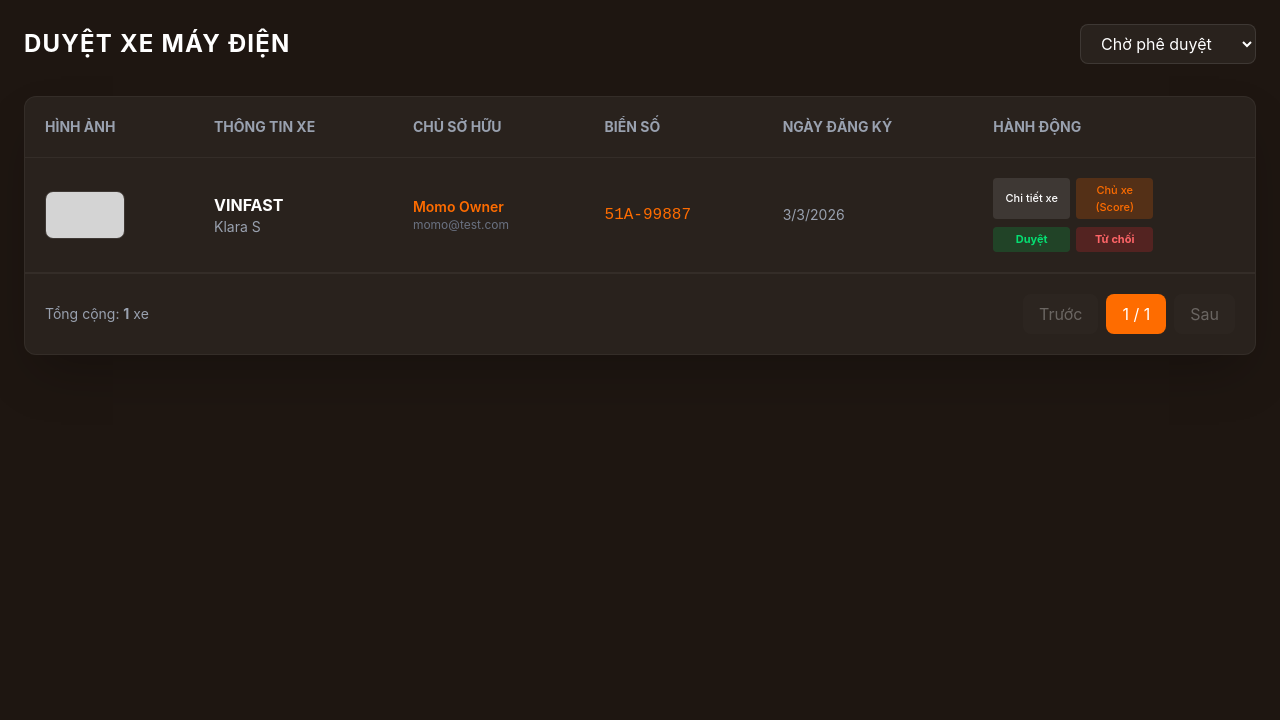
Test: ApproveVehicles Component (UC-10) › Phải hiển thị Hồ sơ uy tín (Trust Score) khi nhấn vào nút Chủ xe (Score)
The width and height of the screenshot is (1280, 720).
Click the button "Chủ xe (Score)". click: [1115, 198]
box: [1076,178,1153,219]
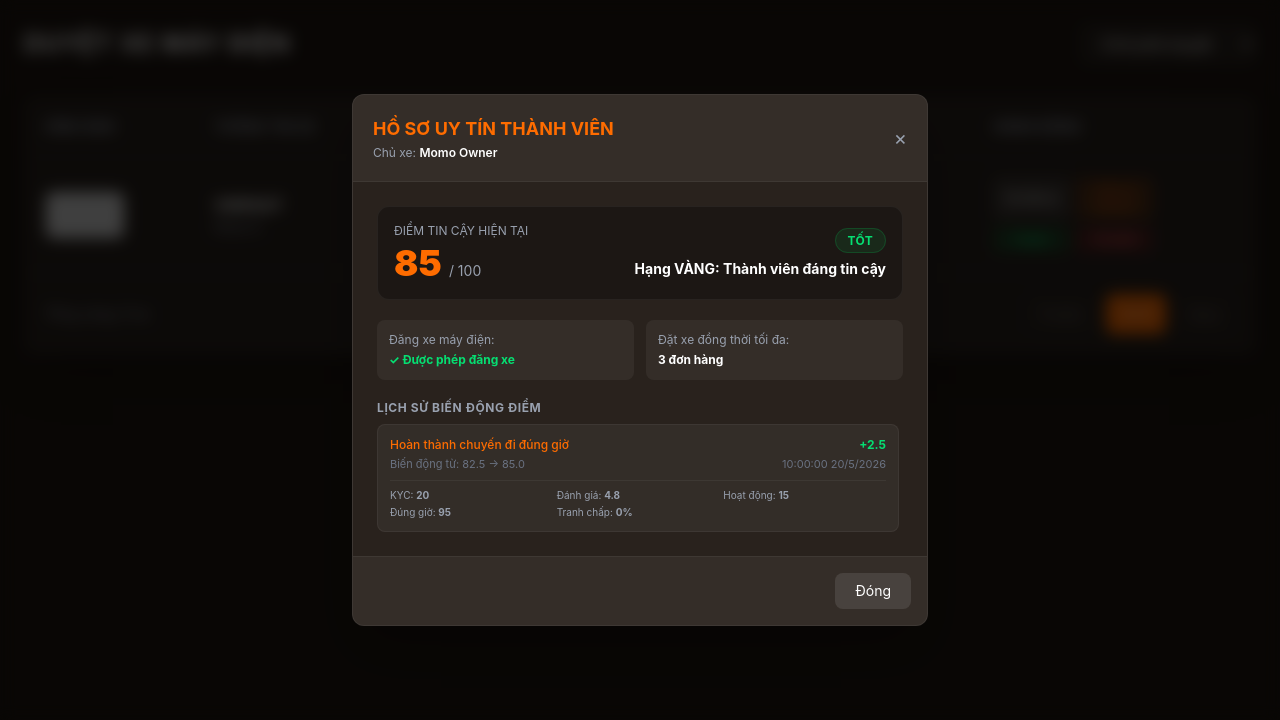
Expected: the heading "Hồ sơ uy tín thành viên" is shown, [373,115,614,143]
Expected: the text "Chủ xe: Momo Owner" is shown, [373,145,498,160]
Expected: the text "85" is shown, [394,241,442,285]
Đóng Modal hồ sơ uy tín
Click the button "Đóng". click: [873, 591]
box: [836,573,911,609]
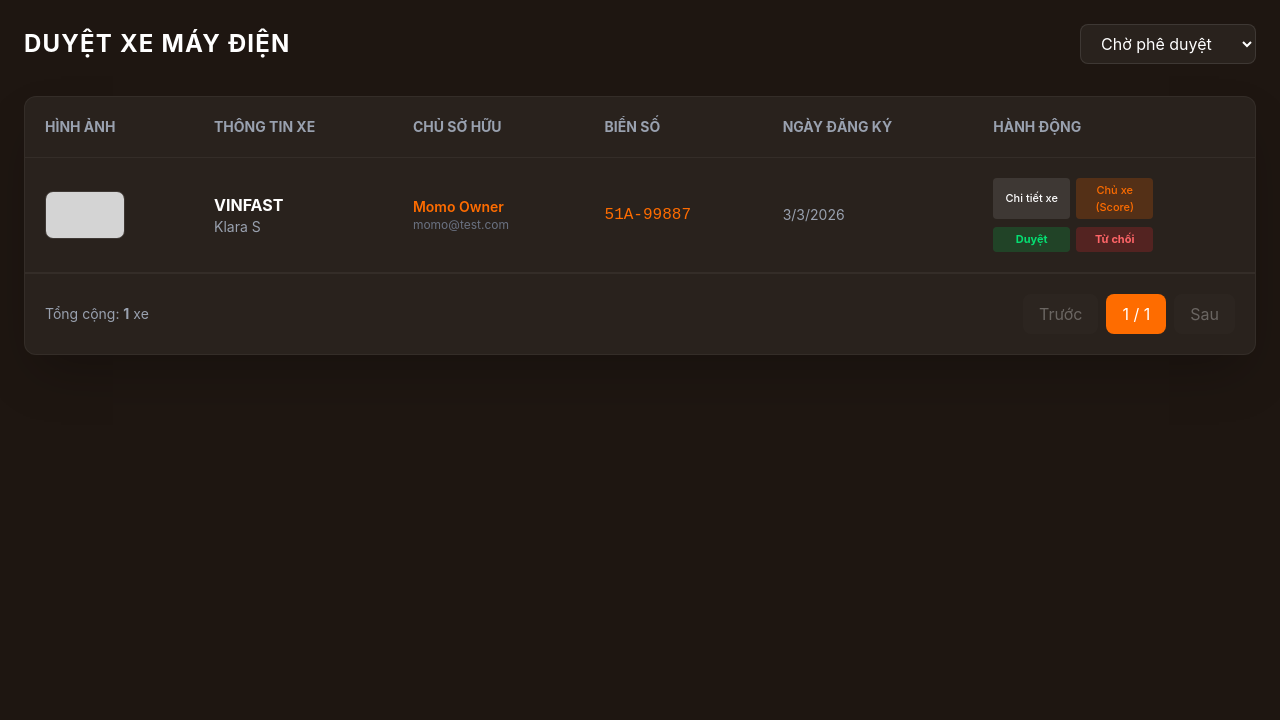
Expected: the heading "Hồ sơ uy tín thành viên" is gone
